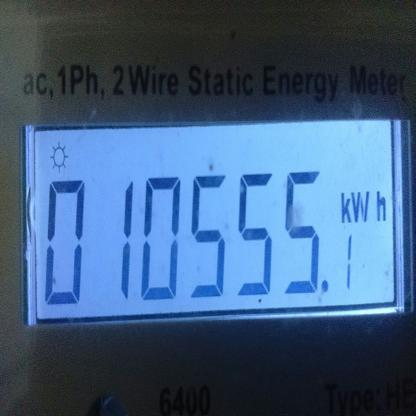.: (334, 187, 392, 225)
0: (315, 280, 337, 297)
1: (43, 178, 87, 307), (141, 177, 181, 302)
2: (116, 176, 137, 303), (342, 231, 359, 294)
6: (280, 166, 321, 299), (189, 173, 230, 298), (237, 170, 276, 300)
